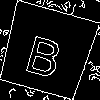B: (22, 25, 68, 79)
